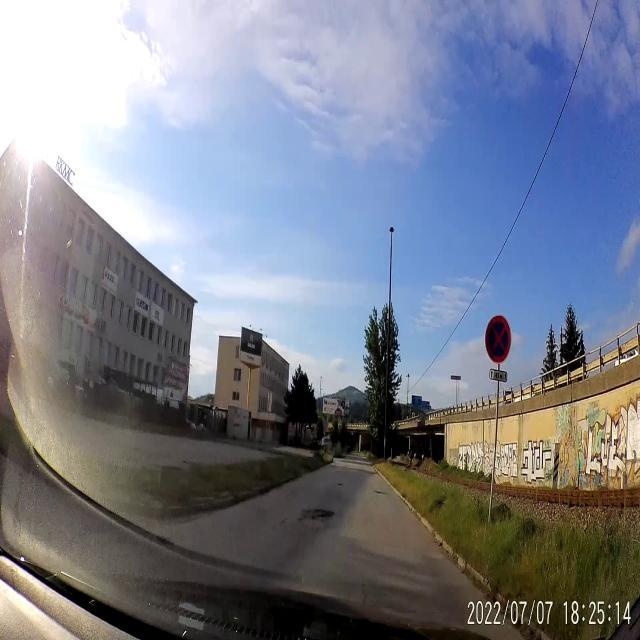Pothole: (298, 510, 337, 524), (373, 484, 388, 498), (336, 482, 347, 489)
